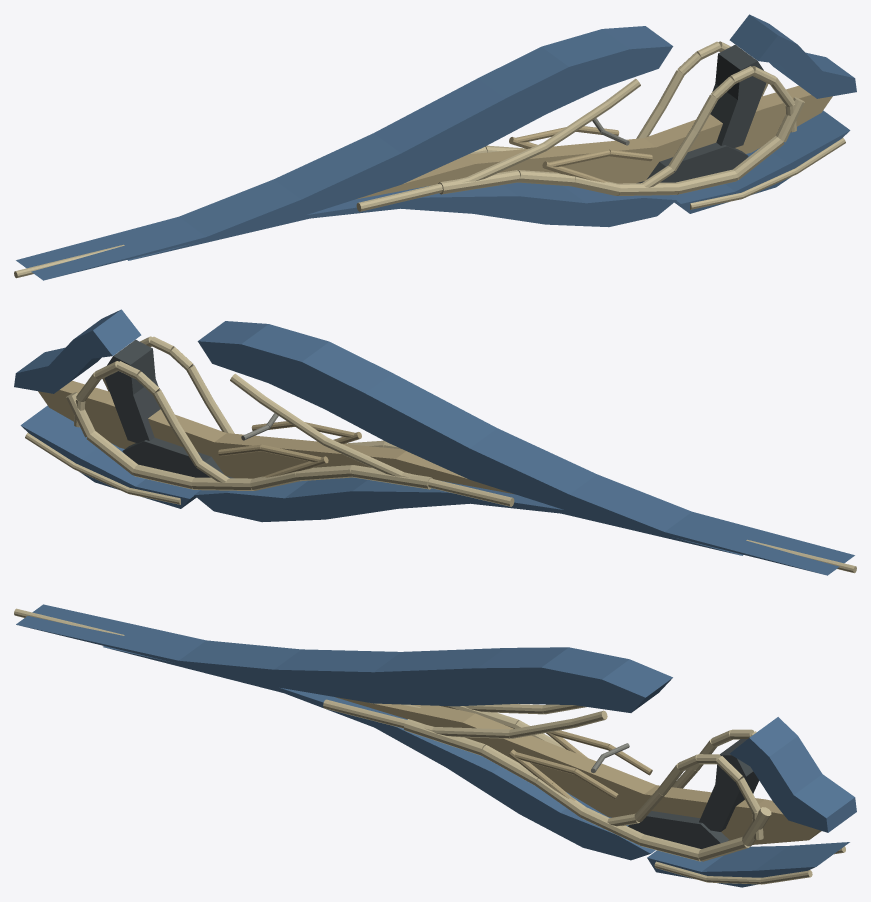
File: ruch_blue_off.glb
3 views of the same model, one above another, from view 1: azimuth 30°, elevation 25°; view 2: azimuth 150°, elevation 25°; view 3: azimuth 330°, elevation 25° (orthographic).
Parts seen in each view (by area): view 1: upper_blade_0, spine_3, lower_blade_1, gold_frame_8, rear_fairing_6, aft_lower_7, cockpit_arch_9, seat_back_5, seat_base_4, structural_braces_10, rear_rail_11; view 2: upper_blade_0, spine_3, lower_blade_1, gold_frame_8, rear_fairing_6, aft_lower_7, cockpit_arch_9, seat_back_5, seat_base_4, structural_braces_10, rear_rail_11; view 3: upper_blade_0, spine_3, gold_frame_8, lower_blade_1, rear_fairing_6, aft_lower_7, cockpit_arch_9, seat_back_5, structural_braces_10, seat_base_4, rear_rail_11.
Boxes of the visible parts, bbox=[...] form: upper_blade_0: bbox=[16, 26, 673, 280]; spine_3: bbox=[356, 85, 832, 199]; lower_blade_1: bbox=[127, 182, 676, 260]; gold_frame_8: bbox=[356, 78, 804, 211]; rear_fairing_6: bbox=[729, 14, 856, 98]; aft_lower_7: bbox=[670, 110, 850, 213]; cockpit_arch_9: bbox=[636, 41, 796, 187]; seat_back_5: bbox=[710, 44, 766, 148]; seat_base_4: bbox=[636, 142, 748, 183]; structural_braces_10: bbox=[509, 126, 652, 182]; rear_rail_11: bbox=[690, 138, 845, 209]; upper_blade_0: bbox=[197, 321, 854, 575]; spine_3: bbox=[38, 380, 514, 494]; lower_blade_1: bbox=[194, 477, 743, 555]; gold_frame_8: bbox=[66, 373, 514, 506]; rear_fairing_6: bbox=[14, 309, 141, 393]; aft_lower_7: bbox=[20, 405, 200, 508]; cockpit_arch_9: bbox=[74, 336, 234, 482]; seat_back_5: bbox=[104, 339, 160, 443]; seat_base_4: bbox=[122, 437, 234, 478]; structural_braces_10: bbox=[218, 421, 361, 477]; rear_rail_11: bbox=[25, 433, 180, 504]; upper_blade_0: bbox=[16, 604, 672, 712]; spine_3: bbox=[335, 697, 821, 844]; gold_frame_8: bbox=[323, 699, 771, 861]; lower_blade_1: bbox=[103, 646, 655, 860]; rear_fairing_6: bbox=[729, 717, 856, 832]; aft_lower_7: bbox=[647, 842, 849, 887]; cockpit_arch_9: bbox=[607, 729, 763, 839]; seat_back_5: bbox=[699, 739, 759, 831]; structural_braces_10: bbox=[509, 730, 652, 800]; seat_base_4: bbox=[628, 811, 728, 848]; rear_rail_11: bbox=[654, 846, 845, 884].
Size of the model in its own units: 9.12 by 1.86 by 0.76.
